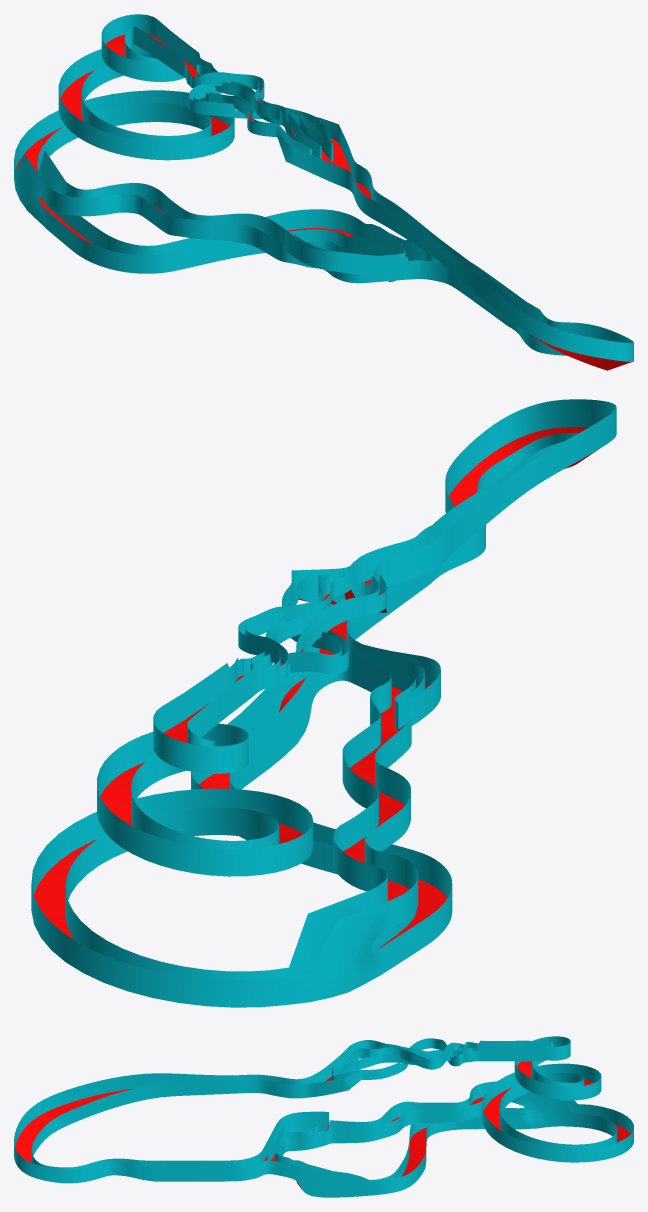
File: Race Track 2 _ Barreras.fbx
3 renders of one model, top to bottom at view 1: azimuth 30°, elevation 25°; view 2: azimuth 150°, elevation 25°; view 3: azimuth 270°, elevation 25°, orthographic. The views are drawn at different scales.
Visible parts, largest first — view 1: Carretera 3 b barreras; view 2: Carretera 3 b barreras; view 3: Carretera 3 b barreras.
Boxes of the visible parts, x1,y1,x2,y2 form: Carretera 3 b barreras: (14, 14, 633, 370); Carretera 3 b barreras: (31, 399, 616, 1007); Carretera 3 b barreras: (14, 1036, 633, 1197).
Bounding box in the file's own units: 26727 × 15847 × 73072.
